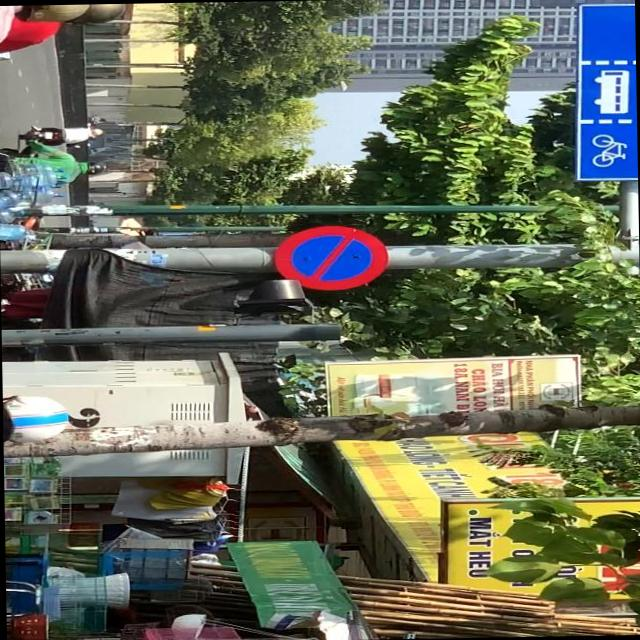P-131a: (270, 222, 388, 292)
